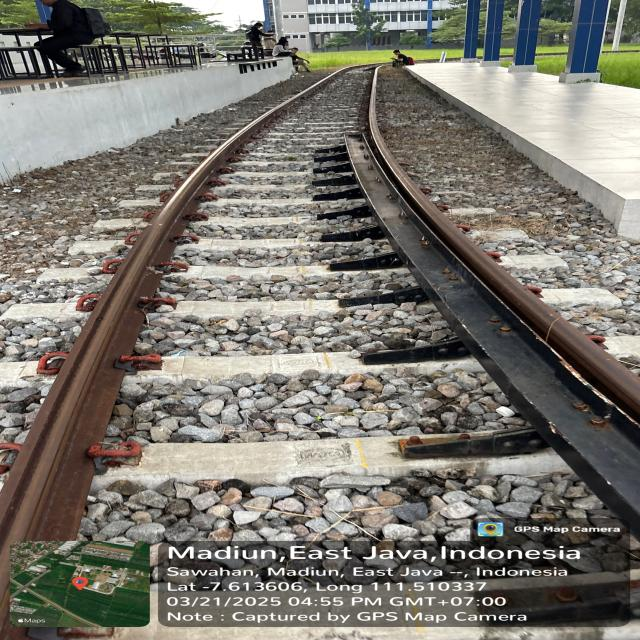rail-detection: (0, 70, 348, 590), (345, 67, 640, 540), (512, 313, 640, 534)
